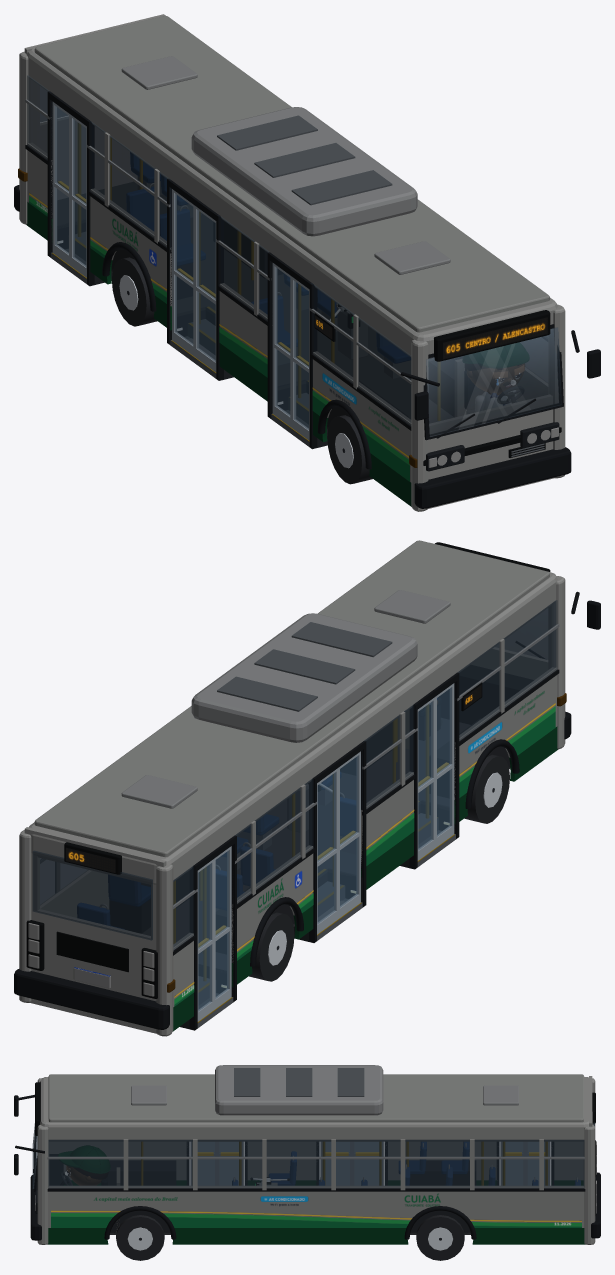
File: cuiaba-onibus-urbano.glb
3 views of the same model, one above another, from view 1: azimuth 30°, elevation 25°; view 2: azimuth 150°, elevation 25°; view 3: azimuth 270°, elevation 25° (orthographic). The views are drawn at different scales.
Visible parts, largest first — view 1: outline (×5), merged (×4), bus; view 2: outline (×4), merged (×5), bus; view 3: outline (×7), merged (×2), bus.
Boxes of the visible parts, box(x1,y1,x2,y2) form: outline (×5): box(14, 14, 600, 511); merged (×4): box(27, 75, 561, 481); bus: box(52, 102, 524, 484); outline (×4): box(14, 540, 600, 1036); merged (×5): box(32, 600, 557, 1006); bus: box(197, 683, 509, 1021); outline (×7): box(14, 1065, 600, 1244); merged (×2): box(48, 1140, 584, 1227); bus: box(61, 1142, 549, 1260).
Bounding box in the file's own units: 2.58 × 2.94 × 10.17.
64 materials, 6 textured.
